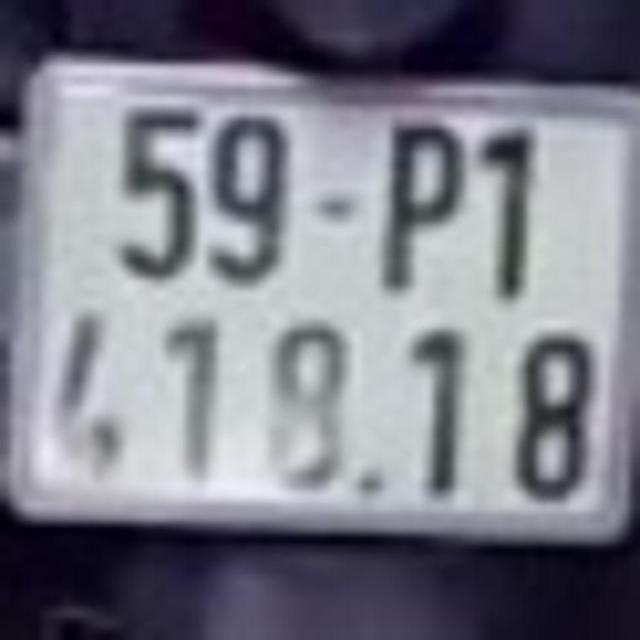1: (154, 306, 228, 490), (406, 312, 469, 502), (477, 116, 539, 306)
4: (50, 300, 122, 494)
5: (120, 92, 194, 278)
8: (268, 313, 346, 498), (516, 320, 587, 508)
9: (213, 102, 283, 286)
P: (386, 113, 458, 289)
